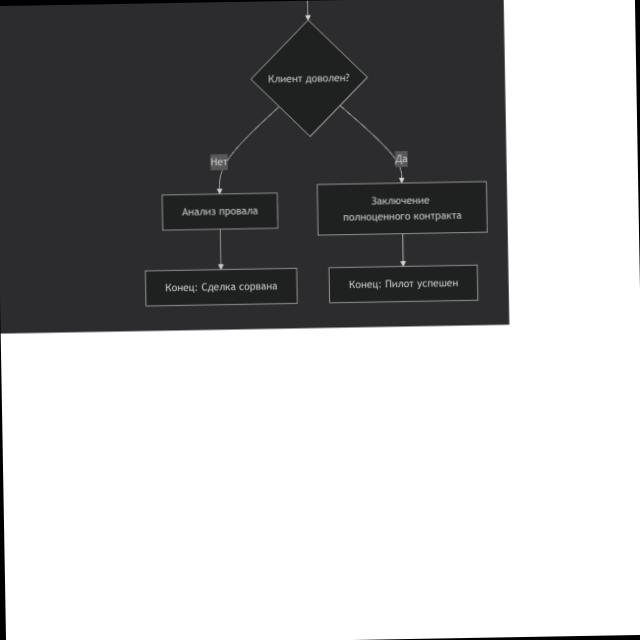arrow: (334, 103, 411, 183), (226, 105, 279, 161), (216, 229, 223, 269), (401, 234, 406, 265), (306, 1, 310, 20)
diamond: (250, 20, 368, 137)
rectangle: (317, 180, 487, 235), (144, 267, 298, 307), (329, 264, 479, 304), (162, 192, 278, 230)
text_region: (389, 151, 416, 167), (205, 155, 230, 170)
